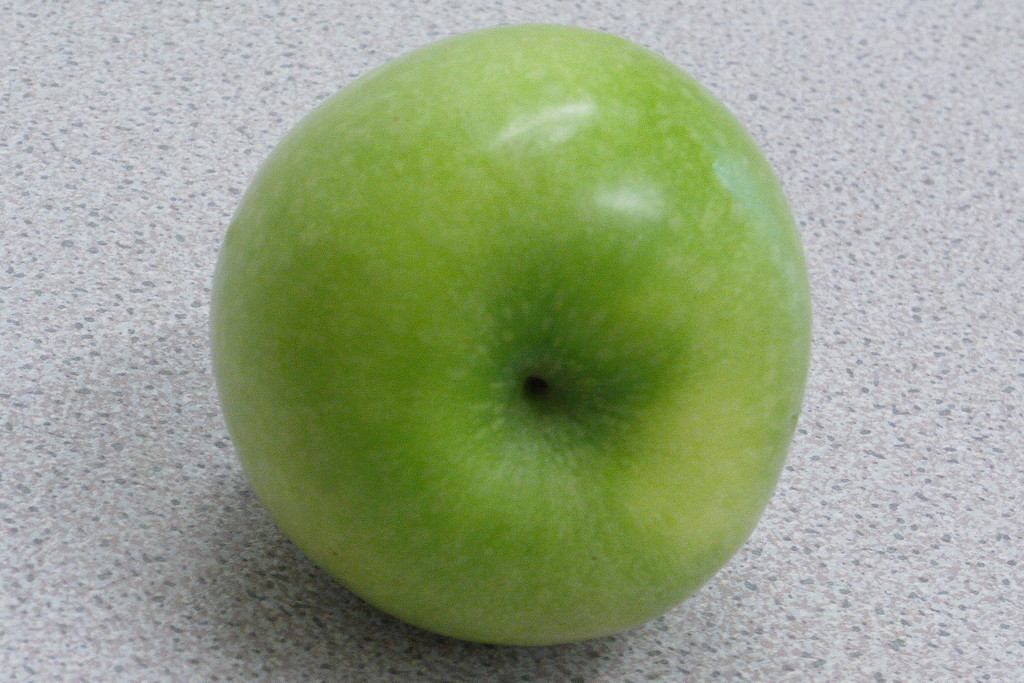Apple: (209, 22, 812, 648)
